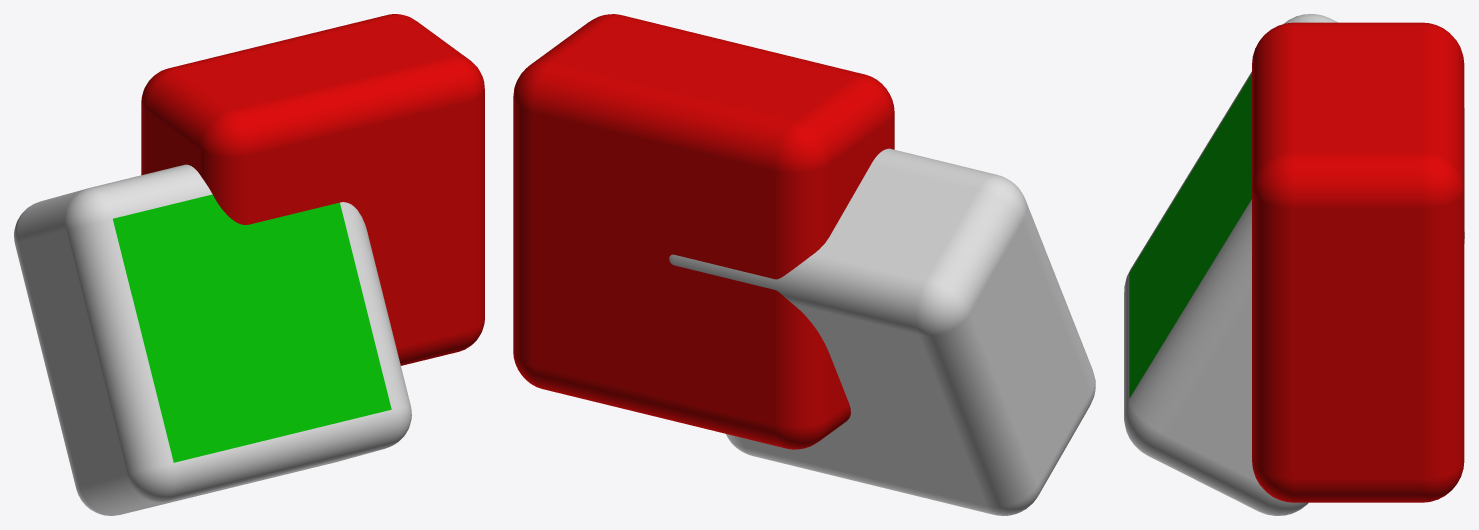
Rendered from random4.fbx.
The picture shows the model from 3 angles, left to right: view 1: azimuth 30°, elevation 25°; view 2: azimuth 150°, elevation 25°; view 3: azimuth 270°, elevation 25°; orthographic projection. The views are drawn at different scales.
Visible parts, largest first — view 1: obj1; view 2: obj1; view 3: obj1.
Part boxes in pixels (left/top/right/bottom): obj1: left=14, top=14, right=484, bottom=515; obj1: left=513, top=14, right=1095, bottom=515; obj1: left=1124, top=14, right=1464, bottom=515.
Bounding box in the file's own units: 13.09 × 11.25 × 8.02.
